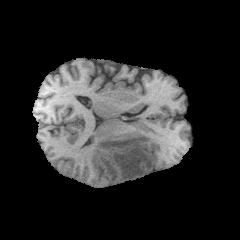glioma: (87, 136, 152, 181)
